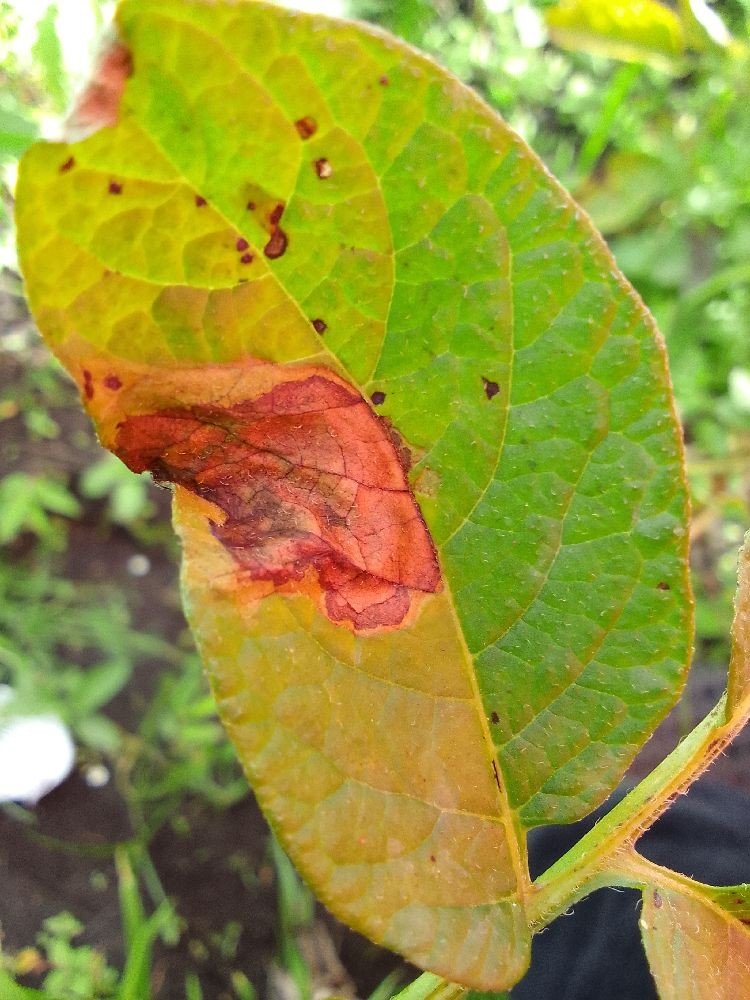late_blight: (165, 220, 585, 780), (48, 0, 171, 178), (623, 858, 750, 1000), (39, 630, 117, 681)
